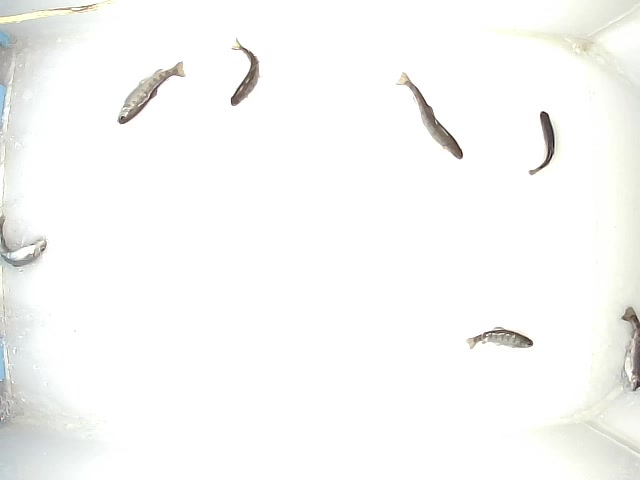fish: (394, 71, 464, 161), (114, 59, 188, 127), (1, 211, 56, 269), (227, 37, 265, 107), (522, 108, 557, 177), (619, 305, 640, 394), (465, 326, 535, 349)
